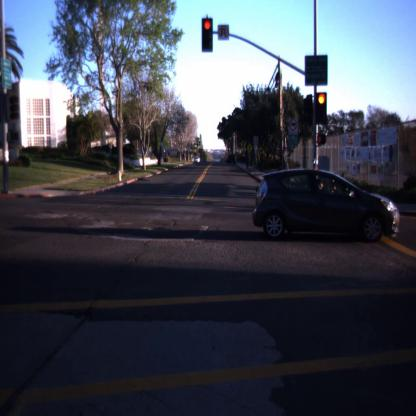trafficlight: (200, 18, 216, 56), (313, 93, 329, 128)
